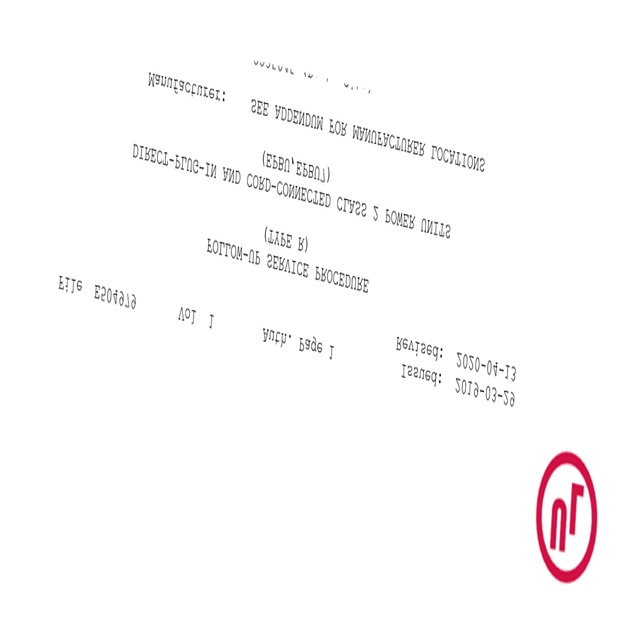ul: (536, 450, 599, 583)
